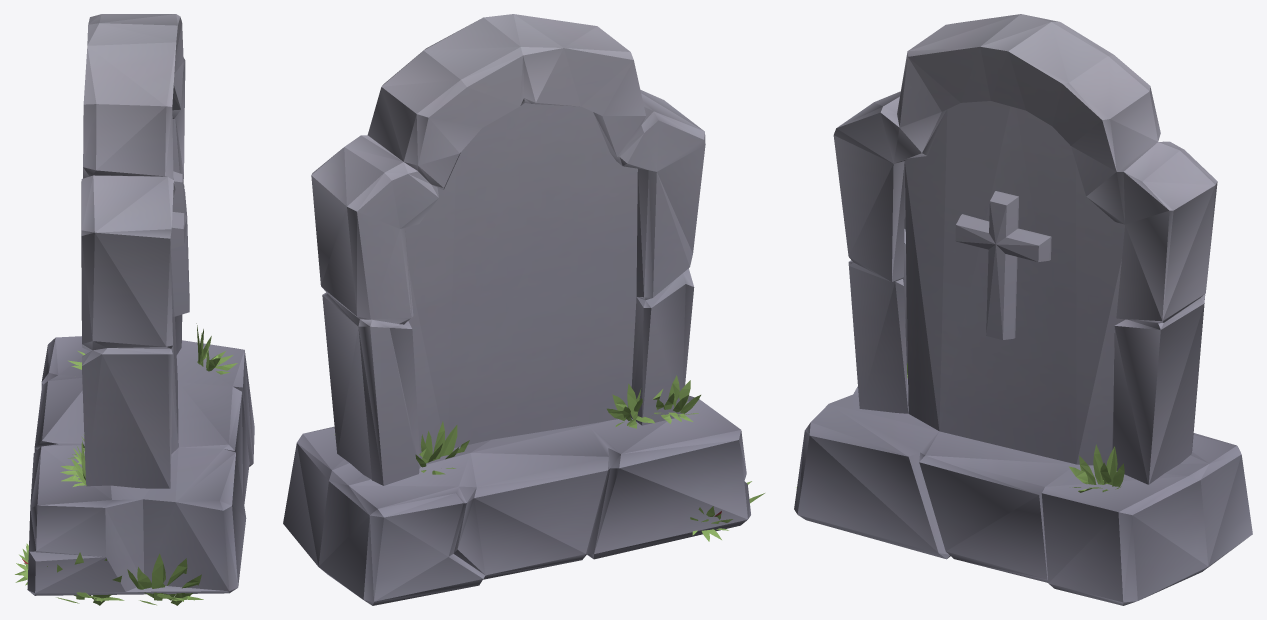
The model's file is EVHalloween_Decor_TombstonePlain.fbx.
3 renders of one model, left to right at view 1: azimuth 30°, elevation 25°; view 2: azimuth 150°, elevation 25°; view 3: azimuth 270°, elevation 25°, orthographic. The views are drawn at different scales.
Visible parts, largest first — view 1: EVHalloween_Decor_PumpkinOrange; view 2: EVHalloween_Decor_PumpkinOrange; view 3: EVHalloween_Decor_PumpkinOrange.
Boxes of the visible parts, bbox=[...] form: EVHalloween_Decor_PumpkinOrange: bbox=[15, 14, 254, 605]; EVHalloween_Decor_PumpkinOrange: bbox=[283, 14, 764, 605]; EVHalloween_Decor_PumpkinOrange: bbox=[794, 14, 1252, 605].
Size of the model in its own units: 45.79 by 64.94 by 53.05.
